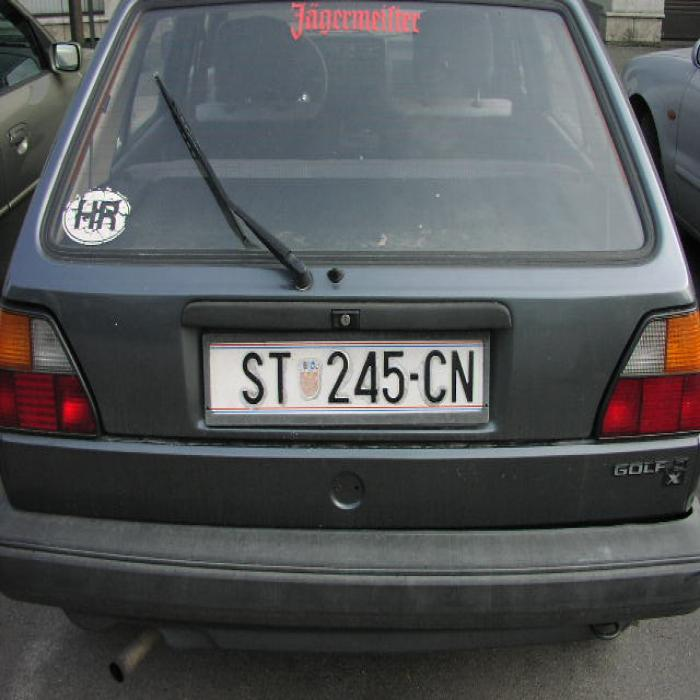number_plate: (209, 344, 480, 408)
